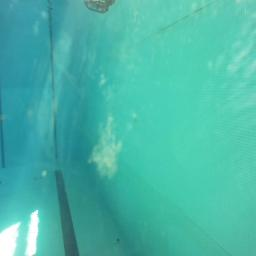Side: (85, 0, 115, 13)
